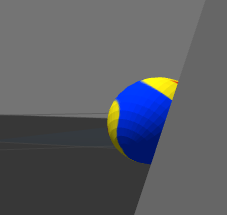toy story ball: (108, 77, 178, 165)
